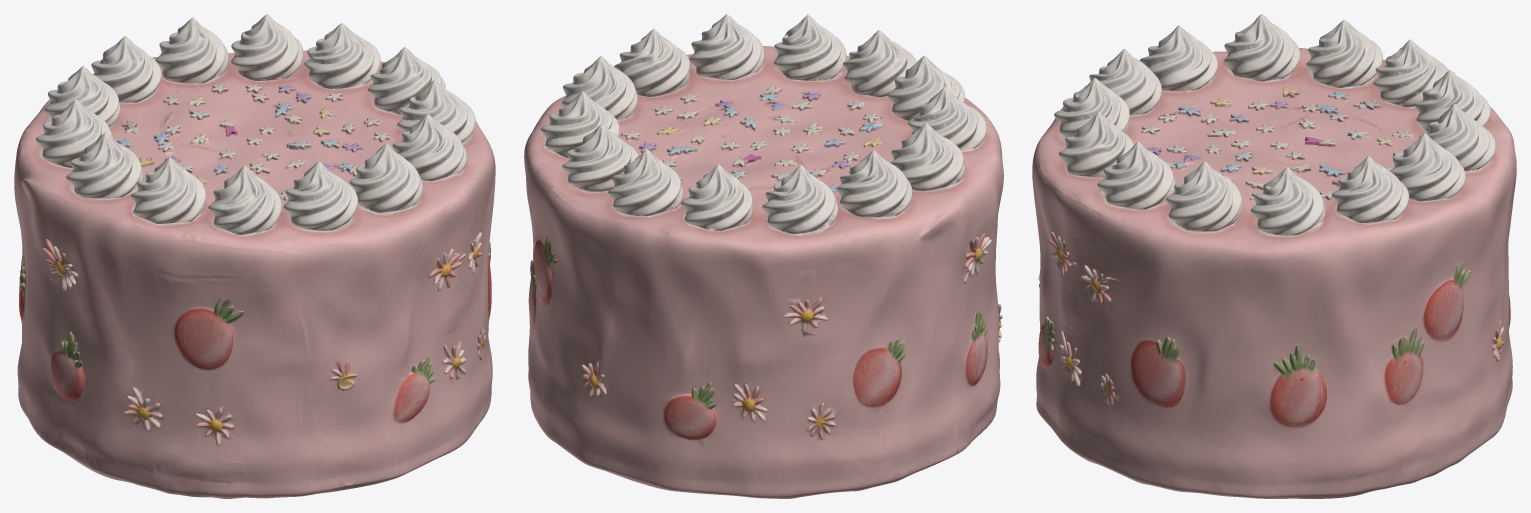
The model's file is cake.glb.
3 views of the same model, side by side, from view 1: azimuth 30°, elevation 25°; view 2: azimuth 150°, elevation 25°; view 3: azimuth 270°, elevation 25° (orthographic).
Visible parts, largest first — view 1: tripo_node_7fcfc805-5f51-49b7-abfa-cbc0df875bc1; view 2: tripo_node_7fcfc805-5f51-49b7-abfa-cbc0df875bc1; view 3: tripo_node_7fcfc805-5f51-49b7-abfa-cbc0df875bc1.
Boxes of the visible parts, x1=… form: tripo_node_7fcfc805-5f51-49b7-abfa-cbc0df875bc1: x1=14, y1=14, x2=495, y2=498; tripo_node_7fcfc805-5f51-49b7-abfa-cbc0df875bc1: x1=524, y1=14, x2=1003, y2=498; tripo_node_7fcfc805-5f51-49b7-abfa-cbc0df875bc1: x1=1032, y1=14, x2=1516, y2=498.
Size of the model in its own units: 0.9804 by 0.7066 by 0.98.
Materials: 1 (1 with a texture image).
